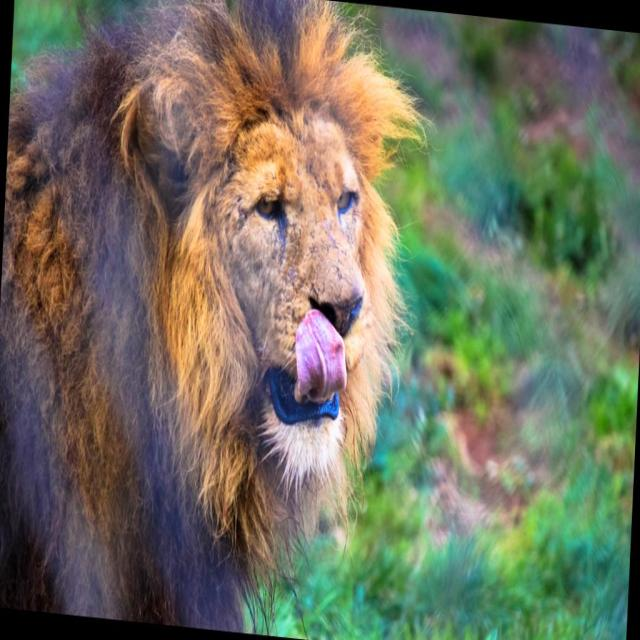Lion: (0, 0, 450, 639)
